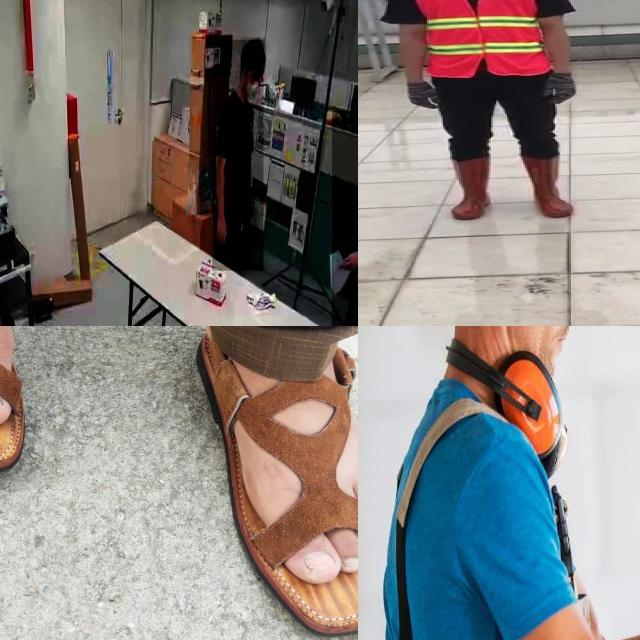Ear-protection: (484, 345, 583, 468)
Sandals: (194, 326, 358, 634)
boots: (519, 156, 580, 218), (448, 155, 498, 222)
face_mask: (244, 68, 260, 109)
hand_glove: (402, 82, 441, 111), (544, 72, 576, 107)
hand_noglove: (336, 247, 358, 272), (214, 214, 227, 248)
head_nohelmet: (241, 37, 266, 62)
person: (372, 326, 640, 640), (212, 40, 264, 272)
vest: (412, 0, 553, 77)
